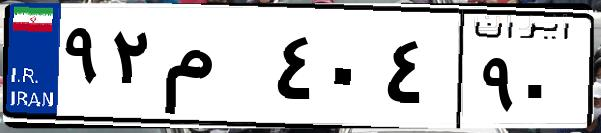0: (330, 28, 385, 110), (525, 38, 570, 115)
2: (110, 28, 158, 98)
4: (270, 28, 330, 110), (385, 28, 445, 110)
9: (57, 26, 110, 100), (475, 38, 525, 113)
م: (158, 20, 270, 120)
